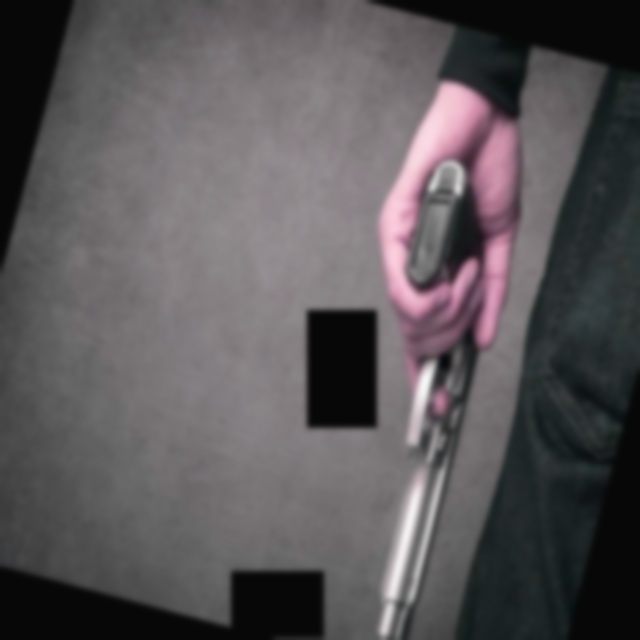gun: (265, 133, 554, 640)
